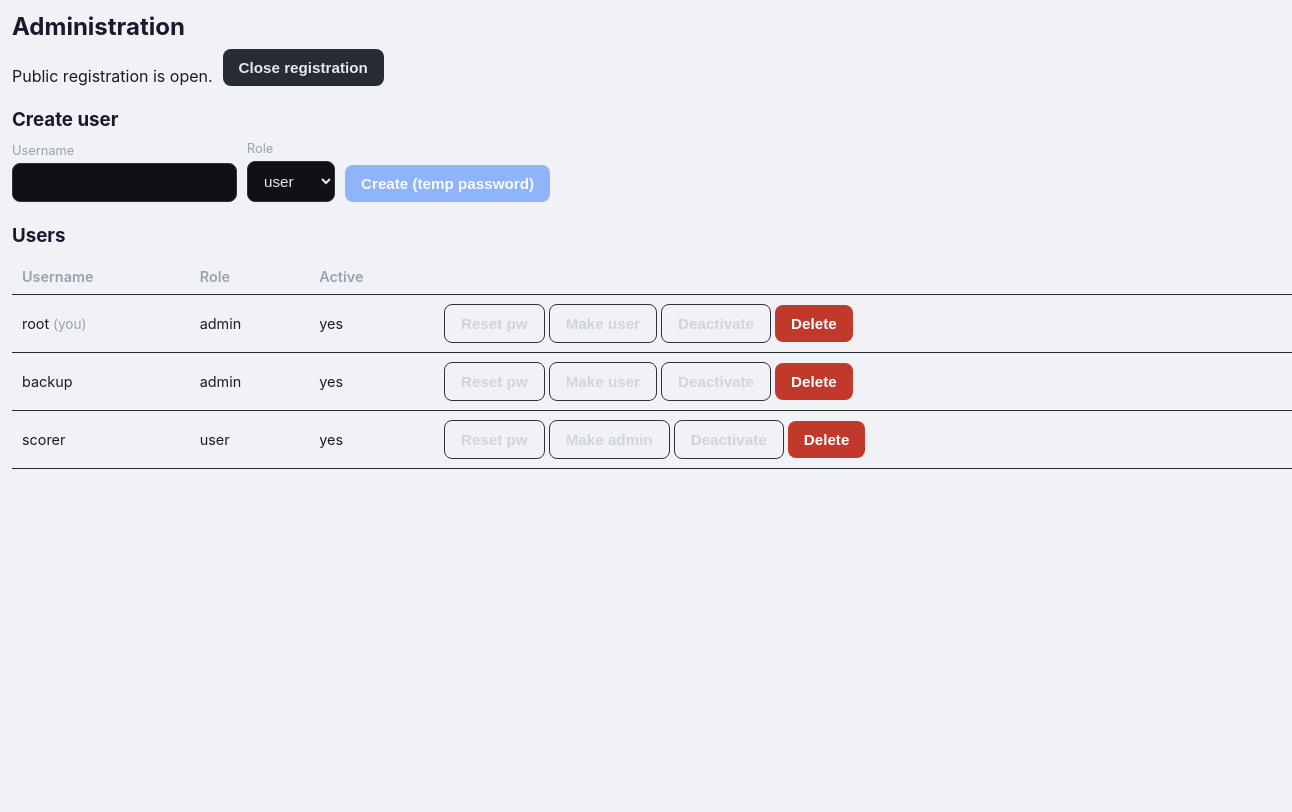
Test: AdminPage user management › closing registration skips the confirm and toasts
This screenshot has width=1292, height=812.
Expected: the text "scorer" is shown, [12,410,190,468]
Step 1. Click the button "Close registration" → (303, 68), box [223,49,384,86]
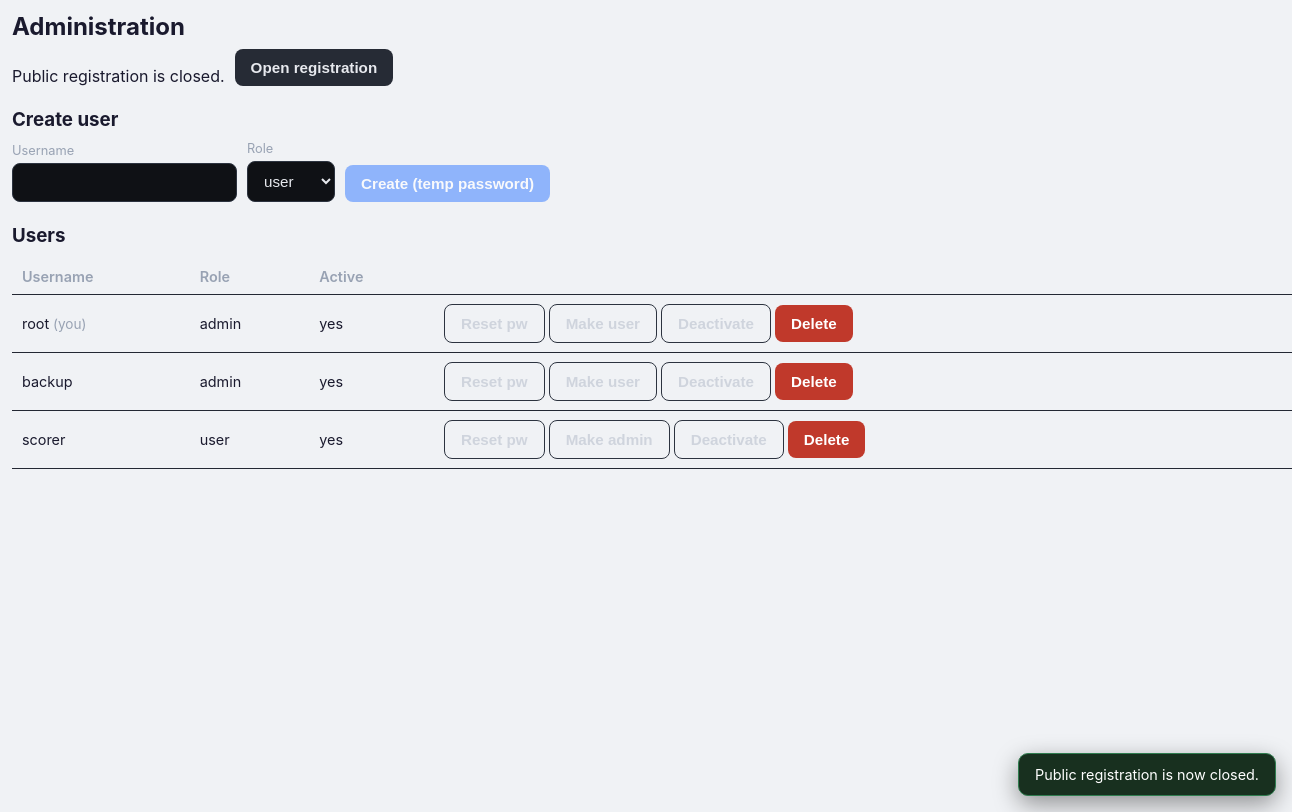
Expected: the text "Public registration is now closed." is shown, [1018,753,1276,796]
